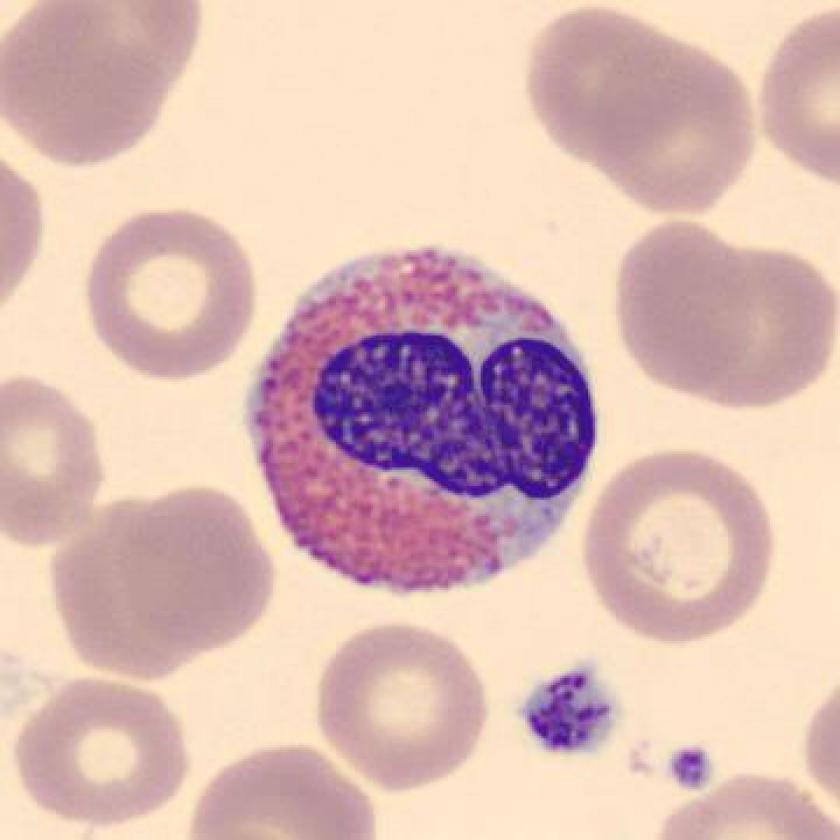eosinophil: (241, 230, 617, 612)
